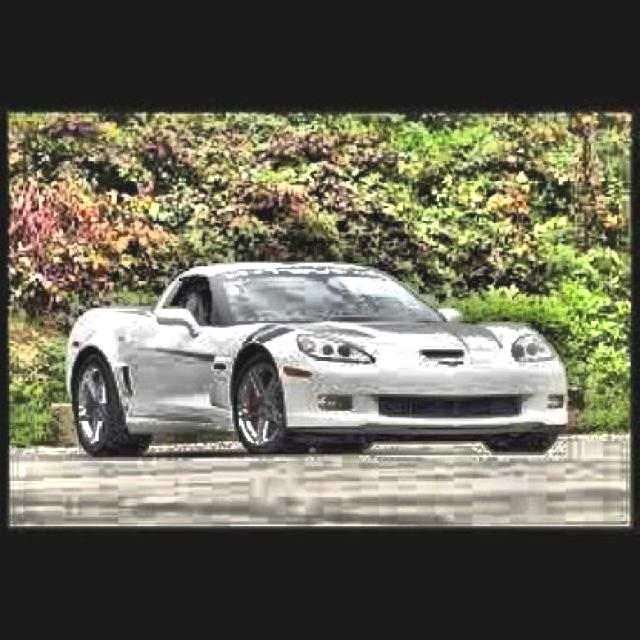silver: (65, 262, 564, 452)
